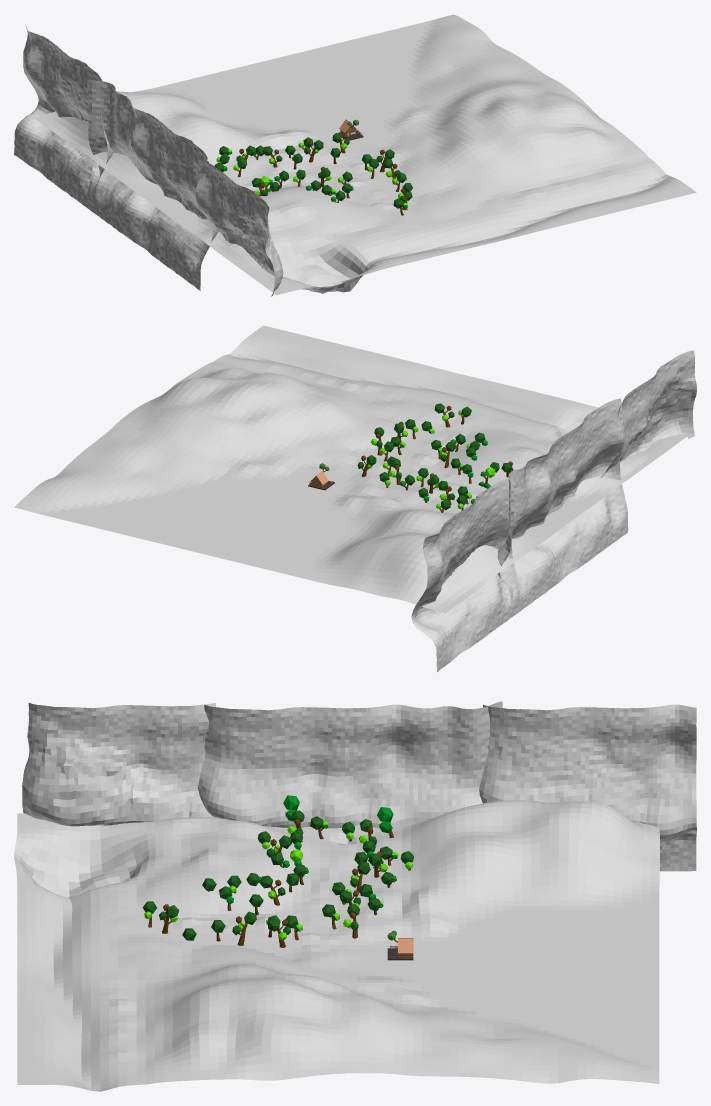
File: LOKO.fbx
The picture shows the model from 3 angles, top to bottom: view 1: azimuth 30°, elevation 25°; view 2: azimuth 150°, elevation 25°; view 3: azimuth 270°, elevation 25°; orthographic projection. The views are drawn at different scales.
Parts seen in each view (by area): view 1: Grid, Grid.001, Grid.003, Grid.002; view 2: Grid, Grid.001, Grid.003, Grid.002; view 3: Grid, Grid.001, Grid.003, Grid.002.
Part boxes in pixels (x1,y1,x2,y2): Grid: (34, 14, 696, 295); Grid.001: (87, 79, 218, 290); Grid.003: (14, 25, 113, 212); Grid.002: (195, 159, 283, 296); Grid: (14, 325, 694, 613); Grid.001: (497, 398, 628, 617); Grid.003: (411, 477, 520, 672); Grid.002: (601, 350, 696, 477); Grid: (14, 800, 659, 1091); Grid.001: (197, 701, 502, 828); Grid.003: (479, 704, 696, 871); Grid.002: (22, 703, 215, 826).
Bounding box in the file's own units: 15261 × 4405 × 15955.
